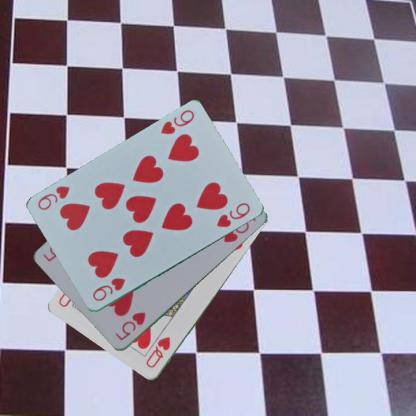5h: (113, 310, 147, 342)
9h: (158, 108, 196, 138), (90, 275, 127, 303)
Qh: (143, 334, 172, 370)
